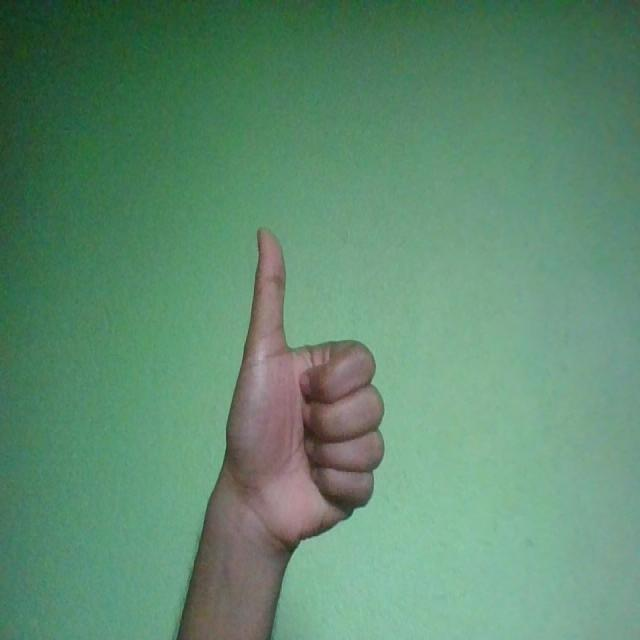Good Job: (225, 228, 386, 555)
